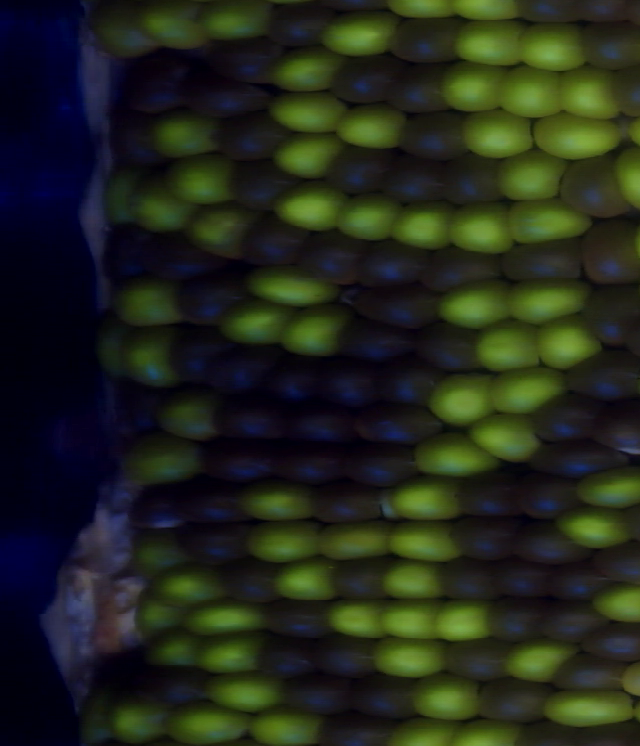fluorescent: (497, 271, 600, 329), (268, 299, 357, 366), (427, 273, 520, 336), (420, 367, 504, 434), (455, 104, 545, 166), (138, 104, 228, 166), (531, 308, 612, 375), (527, 109, 625, 164), (181, 195, 261, 261), (267, 180, 358, 237), (158, 696, 261, 746), (500, 193, 597, 246), (243, 259, 343, 310), (536, 683, 640, 732), (384, 469, 473, 526), (156, 149, 239, 210), (83, 1, 163, 64), (126, 169, 201, 236), (482, 364, 575, 418), (409, 429, 505, 481), (119, 431, 205, 489), (550, 500, 639, 556), (382, 513, 472, 568), (104, 272, 189, 330), (144, 559, 233, 614), (468, 406, 548, 467), (239, 514, 329, 568), (553, 61, 630, 124), (132, 1, 217, 58), (405, 669, 490, 726), (496, 632, 584, 687), (445, 199, 525, 259), (328, 99, 415, 154), (175, 595, 278, 641), (473, 314, 548, 377), (259, 89, 355, 138), (187, 625, 274, 679), (118, 326, 186, 395), (315, 7, 403, 60), (495, 61, 569, 124), (494, 147, 573, 206), (513, 19, 593, 77), (265, 44, 354, 96), (234, 477, 326, 527), (214, 297, 299, 351), (437, 56, 512, 117), (365, 632, 454, 682), (449, 14, 528, 70), (329, 189, 407, 245), (267, 128, 345, 184), (148, 387, 224, 444), (310, 515, 396, 565), (185, 1, 282, 45), (375, 552, 452, 607), (198, 668, 288, 715), (242, 702, 335, 746), (133, 623, 213, 674), (388, 197, 458, 255), (125, 529, 201, 582), (65, 688, 134, 746), (268, 553, 344, 605), (375, 593, 450, 645), (89, 315, 142, 387), (129, 583, 192, 643), (325, 591, 393, 646), (104, 697, 180, 746), (567, 462, 640, 512), (428, 592, 495, 644), (98, 159, 145, 232), (376, 711, 468, 746), (442, 714, 525, 746), (587, 578, 640, 628), (609, 141, 640, 219)
nonfluorescent: (109, 43, 198, 118), (551, 150, 639, 225), (344, 389, 447, 451), (336, 279, 451, 333), (415, 238, 513, 301), (142, 222, 233, 289), (334, 434, 429, 498), (107, 657, 216, 712), (492, 230, 591, 289), (351, 232, 439, 298), (205, 106, 300, 166), (164, 319, 241, 393), (195, 429, 284, 493), (329, 314, 425, 373), (168, 270, 259, 332), (505, 516, 595, 576), (224, 155, 308, 219), (522, 436, 634, 484), (383, 9, 474, 68), (94, 218, 169, 289), (291, 225, 369, 292), (276, 391, 360, 453), (471, 672, 562, 729), (325, 49, 411, 109), (209, 337, 286, 404), (367, 353, 450, 415), (379, 59, 462, 120), (175, 475, 260, 534), (175, 514, 261, 572), (510, 465, 590, 527), (275, 667, 359, 726), (394, 106, 475, 167), (201, 34, 289, 90), (405, 317, 485, 378), (575, 215, 640, 290), (310, 348, 385, 413), (203, 394, 291, 449), (447, 464, 529, 523), (125, 473, 196, 541), (525, 388, 604, 449), (560, 346, 640, 406), (434, 153, 510, 215), (306, 478, 393, 532), (318, 140, 395, 201), (573, 280, 640, 350), (348, 666, 421, 730), (548, 647, 637, 699), (235, 213, 312, 273), (250, 625, 325, 686), (479, 589, 555, 649), (259, 346, 329, 410), (374, 148, 445, 211), (307, 628, 380, 689), (214, 555, 289, 614), (275, 436, 351, 494), (260, 593, 343, 646), (104, 111, 171, 176), (325, 552, 404, 606), (264, 1, 345, 53), (488, 553, 566, 606), (448, 509, 519, 567), (188, 78, 281, 121), (443, 633, 516, 686), (531, 599, 615, 644), (547, 554, 614, 610), (434, 552, 502, 607), (577, 17, 640, 74), (311, 707, 403, 746), (587, 395, 640, 462), (575, 617, 640, 667), (593, 535, 640, 598), (510, 1, 592, 32), (604, 60, 640, 121), (567, 1, 640, 29)
